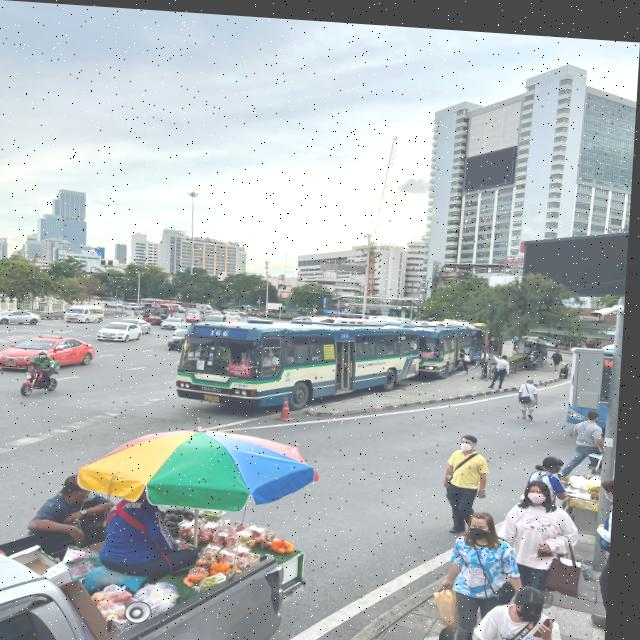BMTA-bus: (176, 306, 426, 412), (411, 314, 478, 371)
Bus-Line-Number: (212, 325, 236, 334)
Destination-Sign-Extra-Bus: (232, 360, 256, 373)
